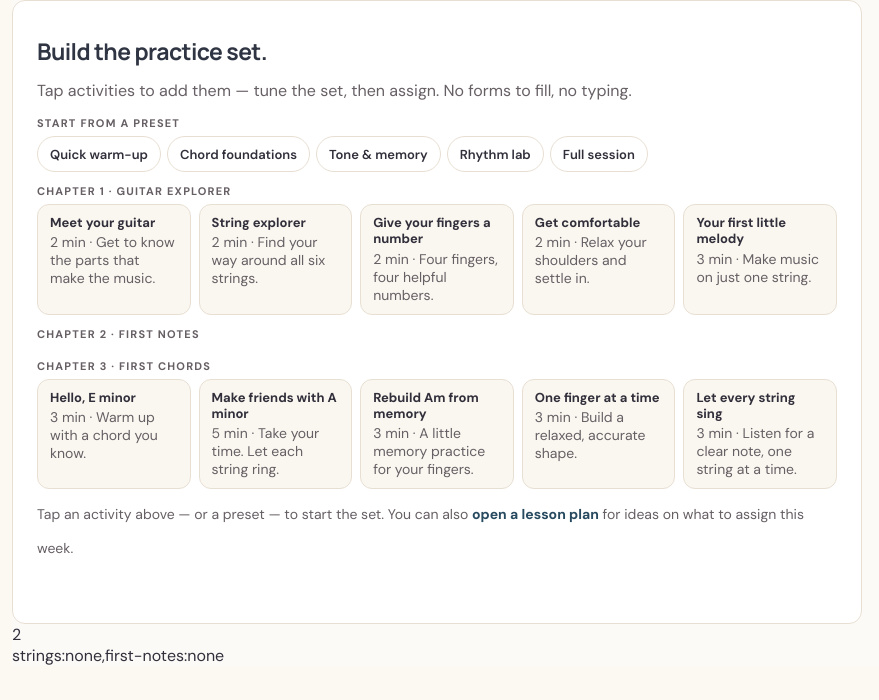
Test case: fills the set from a preset and applies a due-date chip
// Chord foundations is fully inside emma's unlocked chapters.
Click the button "Chord foundations" at coordinates (238, 154), box [167, 136, 310, 172]
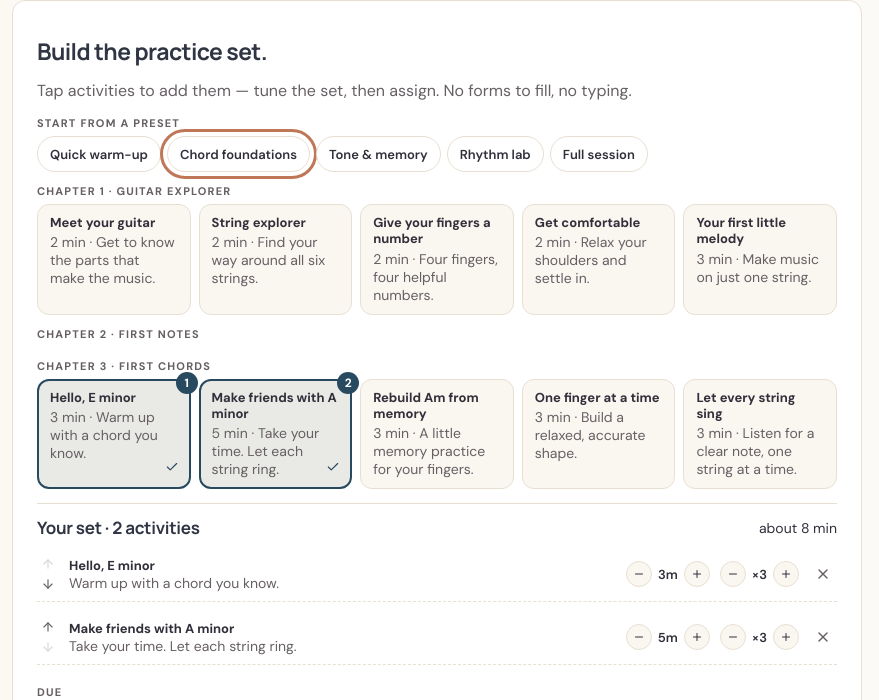
Check: the heading "Your set · 2 activities" is shown, box [37, 516, 200, 539]
// Steppers tune the first item's minutes.
Click the button named "More minutes" next to "3m" at coordinates (697, 574), box [684, 561, 710, 587]
(page scrolled)
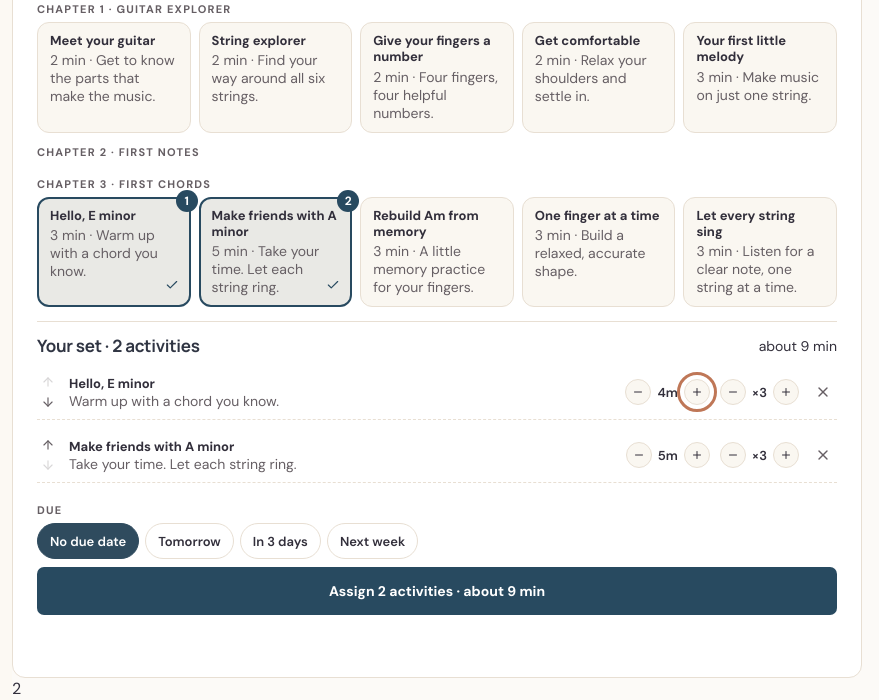
Click the button "Tomorrow" at coordinates (190, 541), box [145, 523, 234, 559]
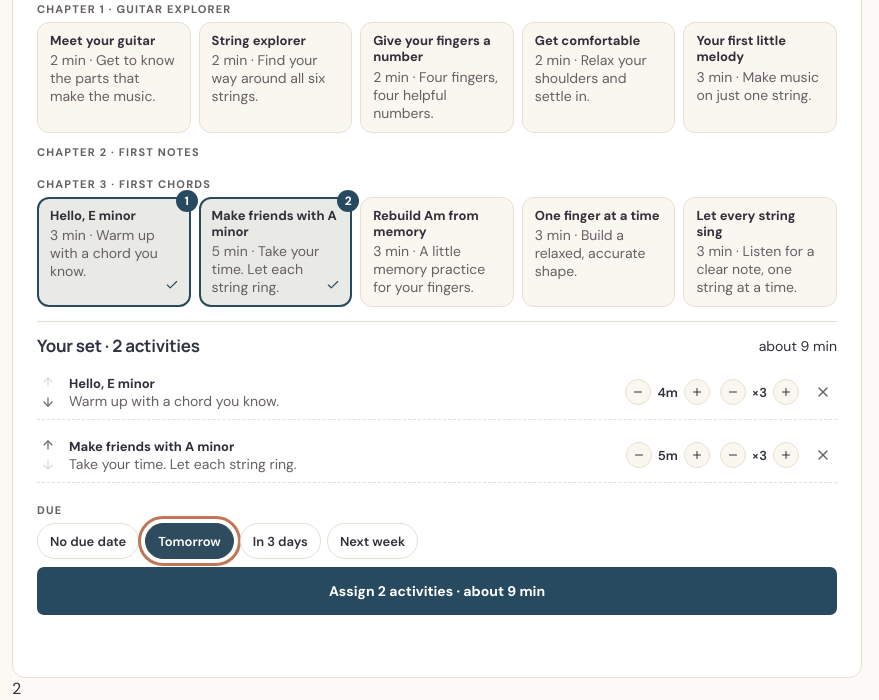
Click the button "Assign 2 activities · about 9 min" at coordinates (437, 591), box [37, 567, 837, 615]
(page scrolled)
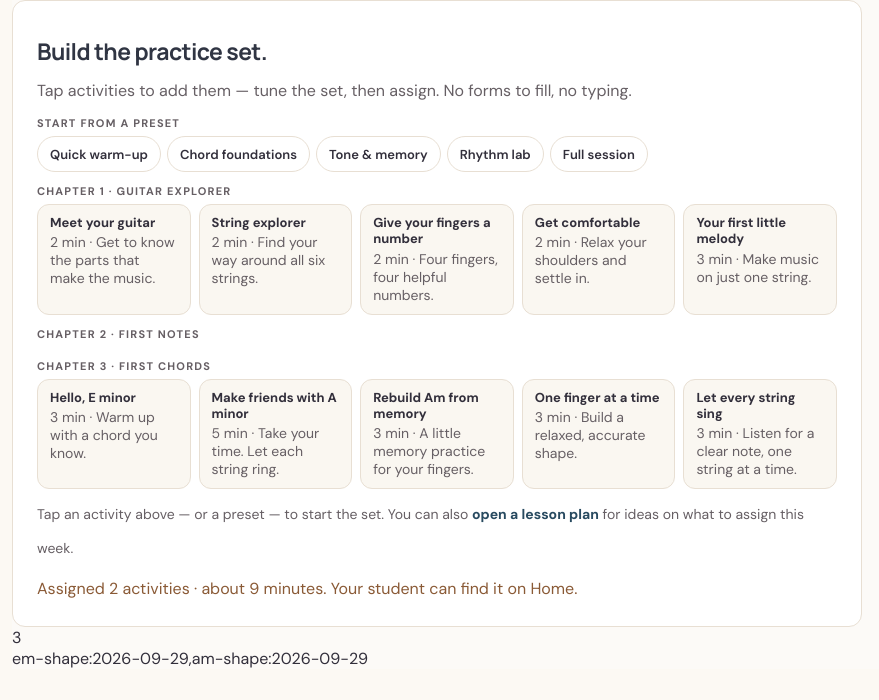
Check: the text "Assigned 2 activities · about 9 minutes. Your student can find it on Home." is shown, box [37, 578, 577, 599]
